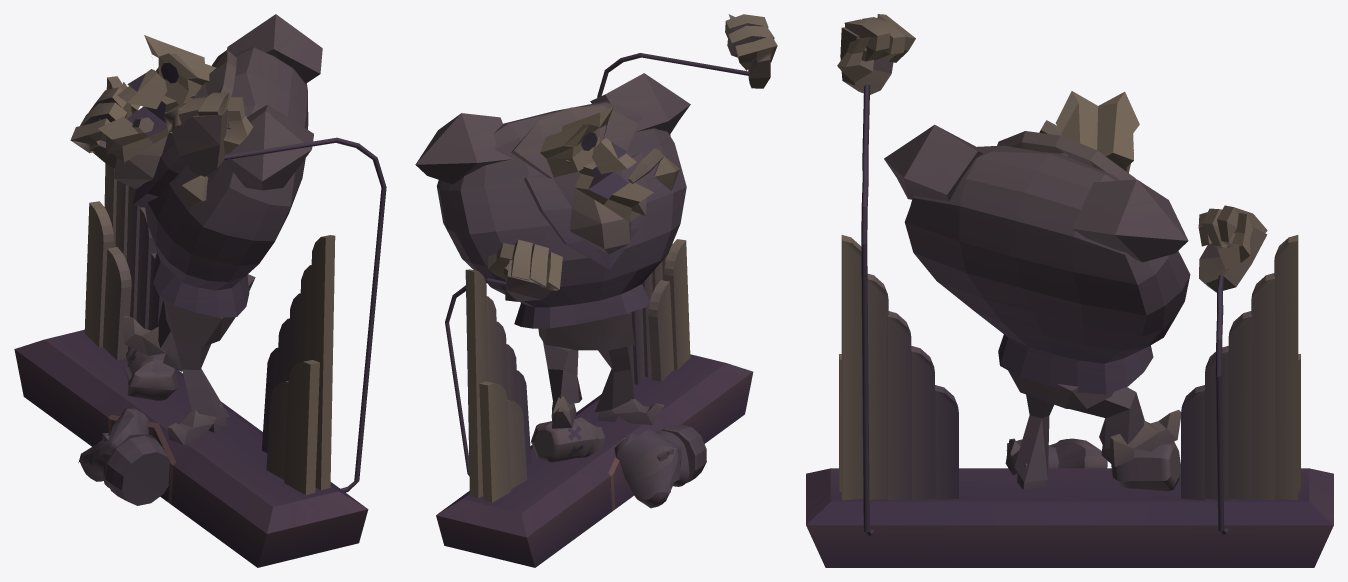
File: SM_StatueBoss-B.fbx
3 renders of one model, left to right at view 1: azimuth 30°, elevation 25°; view 2: azimuth 150°, elevation 25°; view 3: azimuth 270°, elevation 25°, orthographic. The views are drawn at different scales.
Parts seen in each view (by area): view 1: SM_StatueBOSS_Victorious; view 2: SM_StatueBOSS_Victorious; view 3: SM_StatueBOSS_Victorious.
Part boxes in pixels (x1,y1,x2,y2): SM_StatueBOSS_Victorious: (14,14,386,567); SM_StatueBOSS_Victorious: (415,14,777,567); SM_StatueBOSS_Victorious: (806,14,1333,567).
Bounding box in the file's own units: 252 × 410 × 414.
